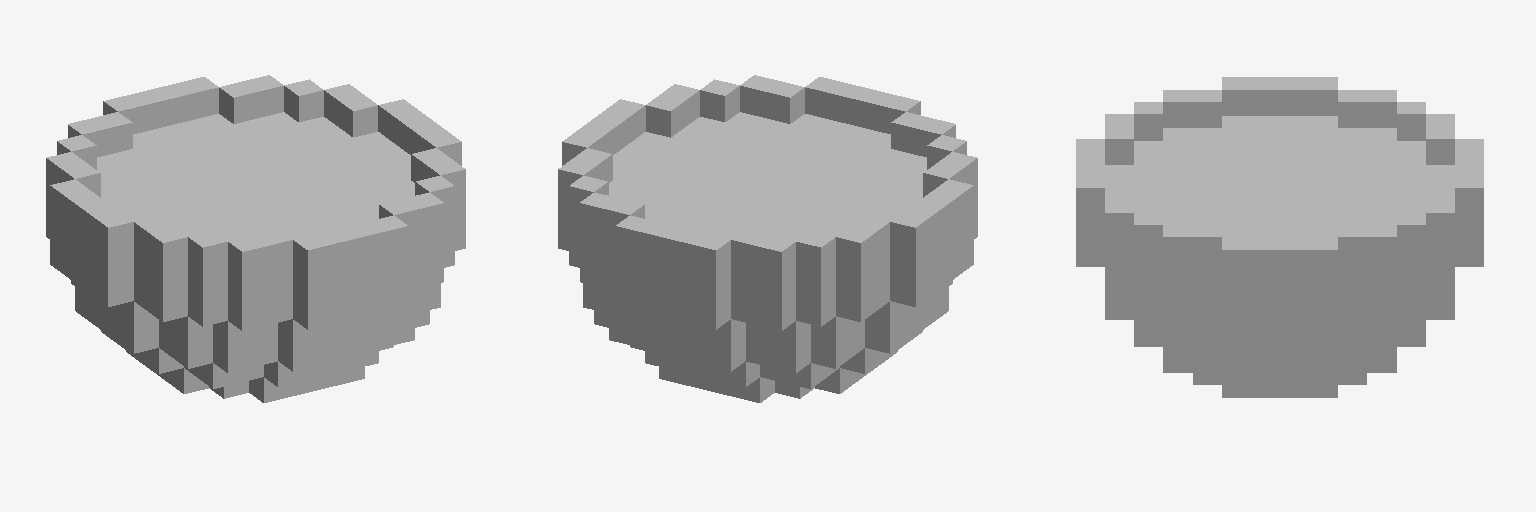
The model's file is hardcook_mixing_glass_bowl_fill.obj.
3 views of the same model, side by side, from view 1: azimuth 30°, elevation 25°; view 2: azimuth 150°, elevation 25°; view 3: azimuth 270°, elevation 25° (orthographic).
Parts seen in each view (by area): view 1: node_0_0_0, node_0_0_0.001; view 2: node_0_0_0, node_0_0_0.001; view 3: node_0_0_0, node_0_0_0.001.
Boxes of the visible parts, box(x1,y1,x2,y2) form: node_0_0_0: box(46, 75, 465, 402); node_0_0_0.001: box(97, 112, 414, 240); node_0_0_0: box(558, 75, 977, 402); node_0_0_0.001: box(609, 112, 926, 240); node_0_0_0: box(1076, 77, 1483, 397); node_0_0_0.001: box(1105, 116, 1454, 236).
Size of the model in its own units: 0.875 by 0.4375 by 0.875.